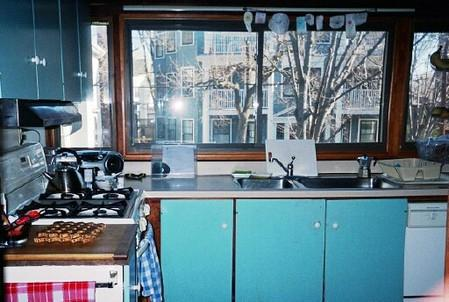Electrodomestico: (2, 145, 150, 224)
Lavaplatos: (242, 154, 405, 193)
Ventana: (123, 15, 397, 147)
